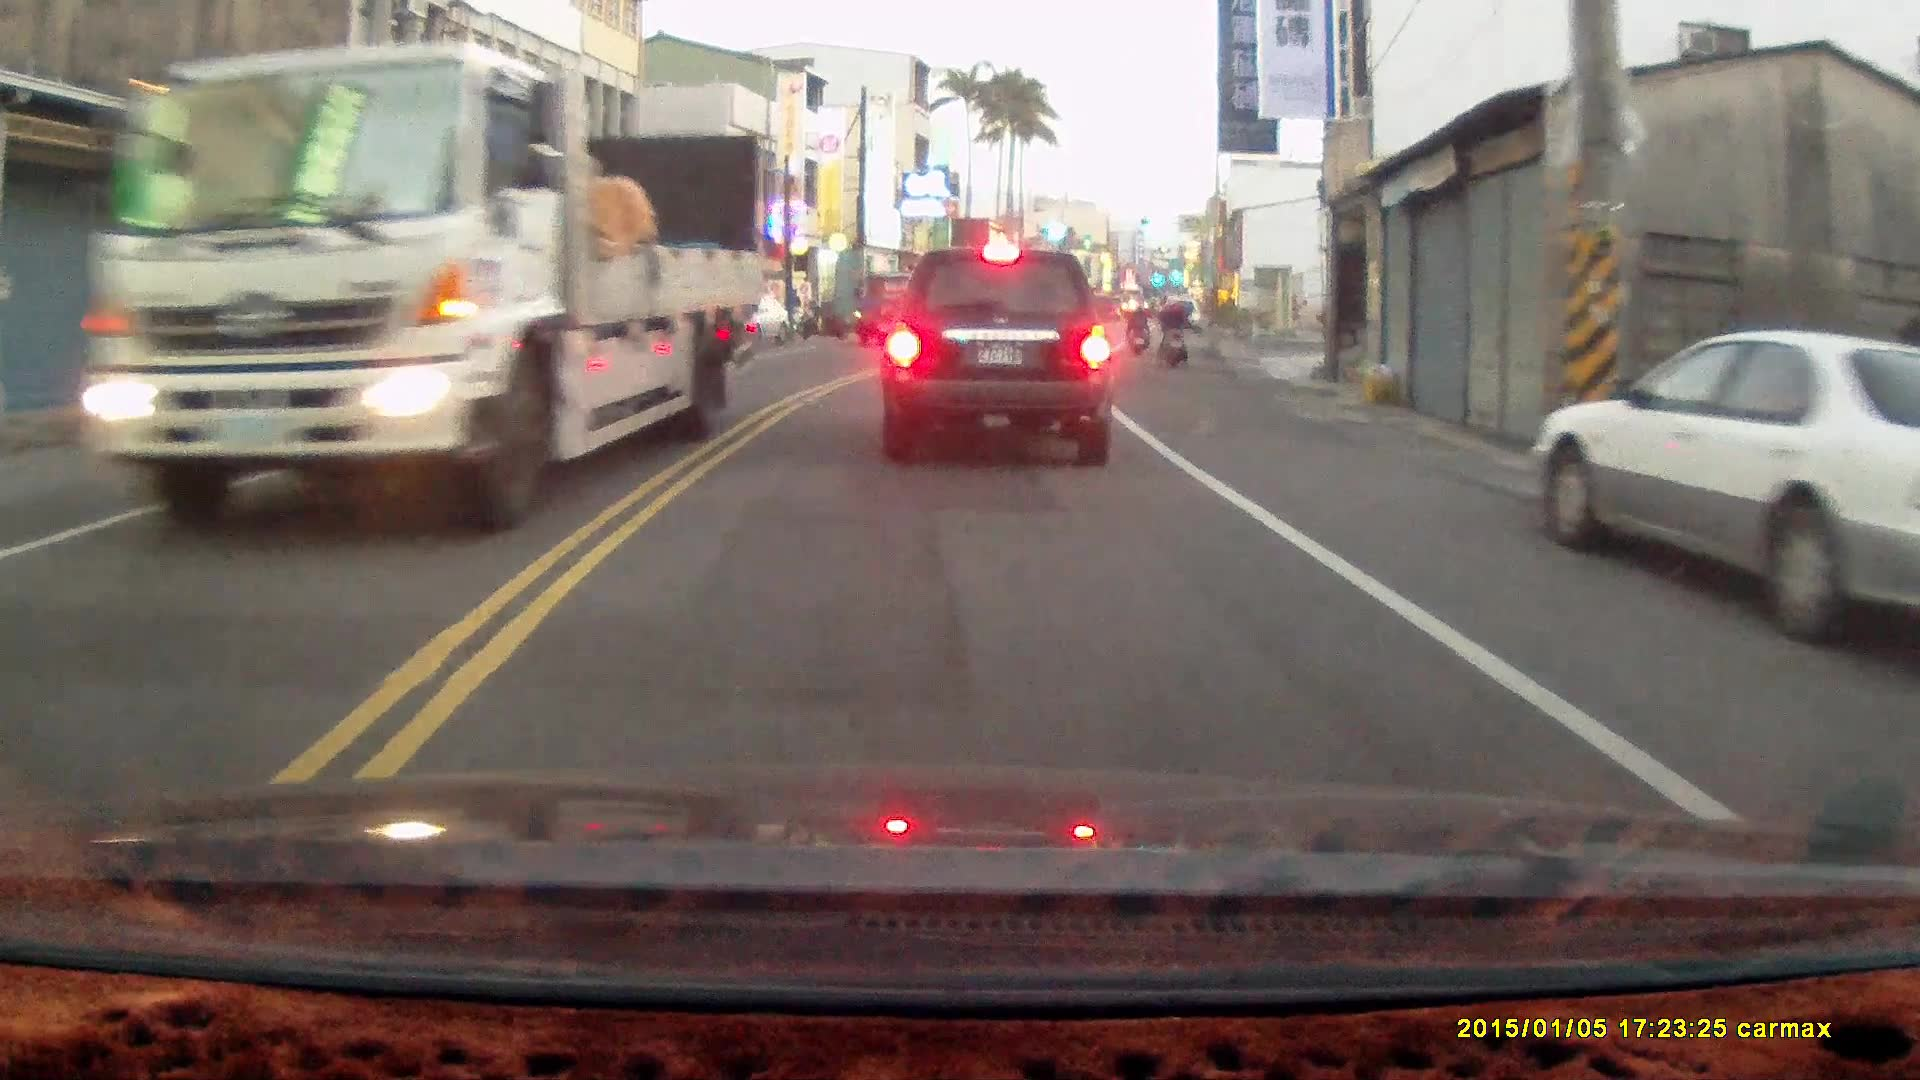rider: (1156, 290, 1187, 369), (1124, 301, 1149, 358)
vehicle: (65, 56, 770, 536), (1528, 327, 1920, 660), (878, 242, 1119, 465), (717, 290, 795, 348)
